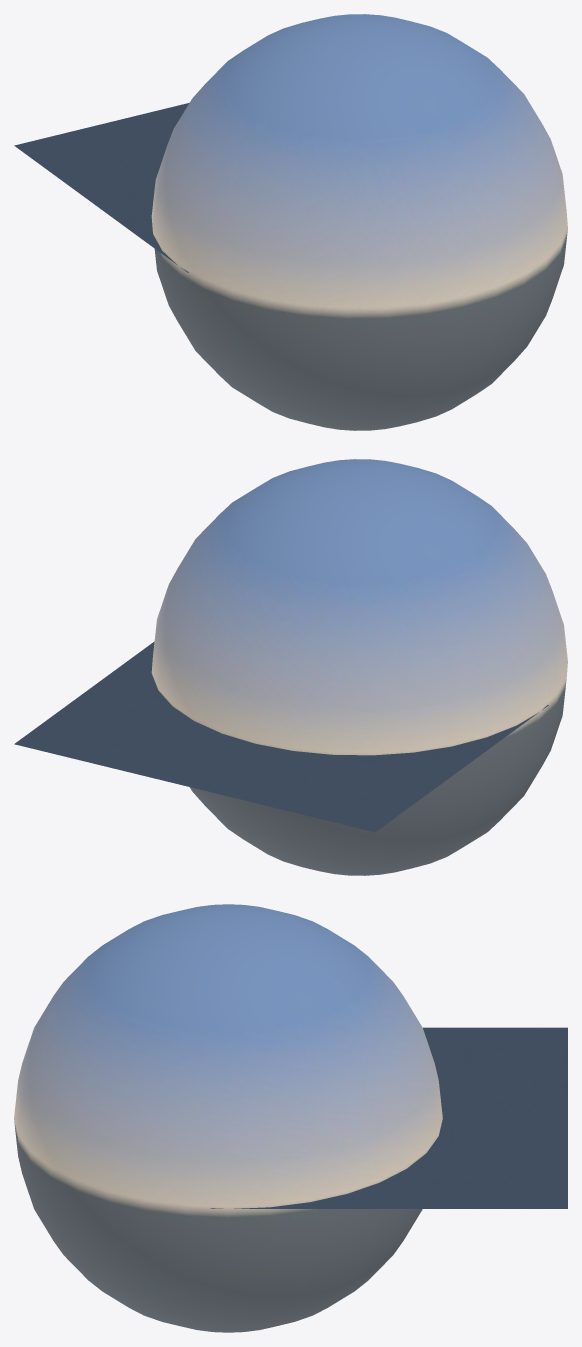
The model's file is room.gltf.
3 renders of one model, top to bottom at view 1: azimuth 30°, elevation 25°; view 2: azimuth 150°, elevation 25°; view 3: azimuth 270°, elevation 25°, orthographic. The views are drawn at different scales.
Parts seen in each view (by area): view 1: SkyDome, MESH_sea; view 2: SkyDome, MESH_sea; view 3: SkyDome, MESH_sea.
Part boxes in pixels (<box>): SkyDome: <box>151,14,567,430</box>; MESH_sea: <box>14,103,189,272</box>; SkyDome: <box>151,459,567,875</box>; MESH_sea: <box>14,641,548,832</box>; SkyDome: <box>14,904,442,1332</box>; MESH_sea: <box>210,1027,567,1208</box>.
Bounding box in the file's own units: 240 × 240 × 310.
Materials: 23 (23 with a texture image).
